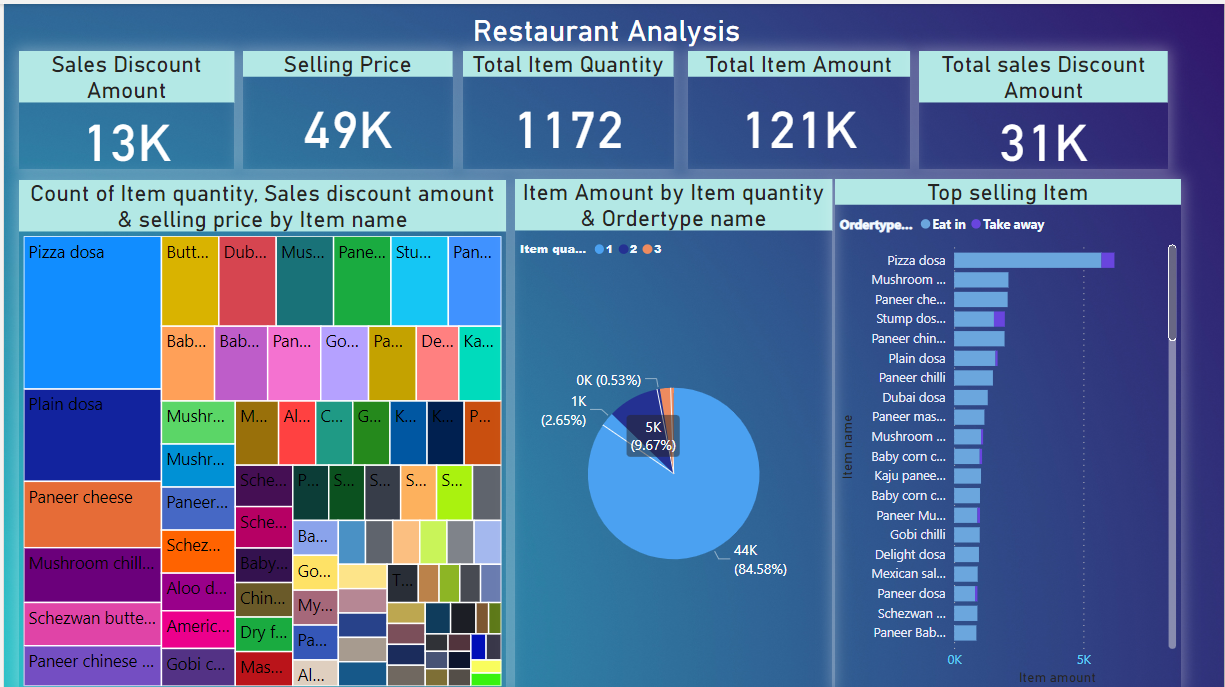

The page's visual inventory and layout, read from the dashboard file:
{"tool":"powerbi","page":{"name":" Page 2","canvas":[1280,720],"ordinal":1},"visuals":[{"type":"card","title":"Sales Discount Amount","fields":{"Values":["Sum(DataSet_Restaurant.Sales discount amount)"]},"box":[15.5,49,225.7,124.2],"z":0},{"type":"card","title":"Selling Price","fields":{"Values":["Sum(DataSet_Restaurant.Selling price)"]},"box":[250.7,49,219.7,124.2],"z":1000},{"type":"card","title":"Total Item Quantity","fields":{"Values":["Sum(DataSet_Restaurant.total quantity)"]},"box":[481.2,49,220.9,124.2],"z":2000},{"type":"card","title":"Total Item  Amount","fields":{"Values":["Sum(DataSet_Restaurant.total item amount)"]},"box":[717.6,49,232.8,124.2],"z":3000},{"type":"card","title":"Total sales Discount Amount","fields":{"Values":["Sum(DataSet_Restaurant.total sales discount amount)"]},"box":[960,49,261.5,124.2],"z":4000},{"type":"treemap","title":"Count of Item  quantity, Sales discount amount & selling price by Item name","fields":{"Values":["CountNonNull(DataSet_Restaurant.Item quantity)"],"Group":["DataSet_Restaurant.Item name"]},"box":[15.7,184.7,511,536.1],"z":5000},{"type":"pieChart","title":"Item Amount by Item quantity & Ordertype name ","fields":{"Category":["DataSet_Restaurant.Item quantity"],"Y":["Sum(DataSet_Restaurant.Item amount)"],"Series":["DataSet_Restaurant.Ordertype name"]},"box":[536.1,183.6,332.6,536.1],"z":6000},{"type":"barChart","title":"Top selling Item","fields":{"Category":["DataSet_Restaurant.Item name"],"Y":["Sum(DataSet_Restaurant.Item amount)"],"Series":["DataSet_Restaurant.Ordertype name"]},"box":[871.9,183.6,363,536.1],"z":7000},{"type":"actionButton","title":"Restaurant Analysis","box":[470,9.4,324.2,39.9],"z":8000}]}

Visuals, with their boxes in screenshot pixels (x1, y1, x2, y2), scaled from the page's 1280x720 canvas onto the 1225x687 screenshot:
"Sales Discount Amount" card: 15, 47, 231, 165
"Selling Price" card: 240, 47, 450, 165
"Total Item Quantity" card: 461, 47, 672, 165
"Total Item  Amount" card: 687, 47, 910, 165
"Total sales Discount Amount" card: 919, 47, 1169, 165
"Count of Item  quantity, Sales discount amount & selling price by Item name" treemap: 15, 176, 504, 686
"Item Amount by Item quantity & Ordertype name " pieChart: 513, 175, 831, 686
"Top selling Item" barChart: 834, 175, 1182, 686
"Restaurant Analysis" actionButton: 450, 9, 760, 47
